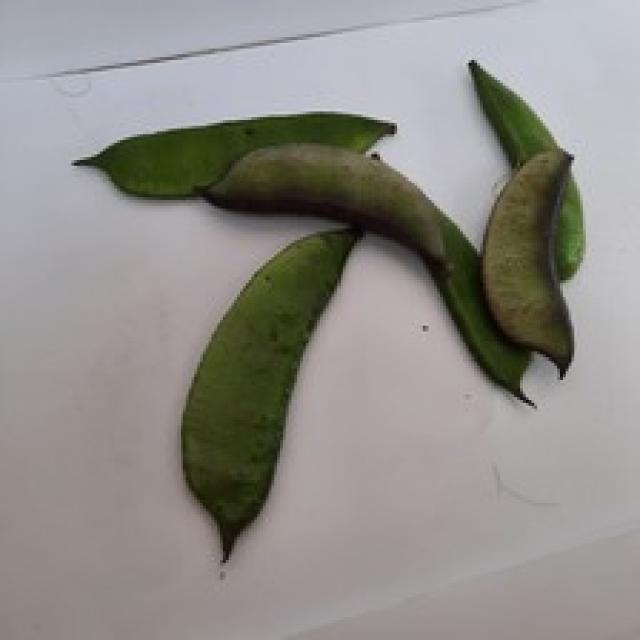Bean: (192, 137, 534, 406), (177, 223, 363, 560), (69, 109, 397, 200), (466, 57, 586, 280), (477, 146, 574, 377)
